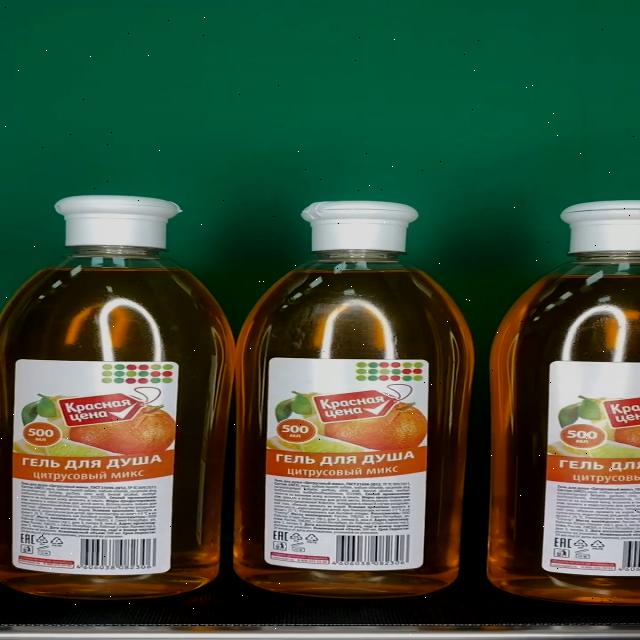Bottle: (235, 201, 474, 598), (0, 196, 234, 601)
Cap: (54, 196, 182, 249), (300, 202, 419, 252)
